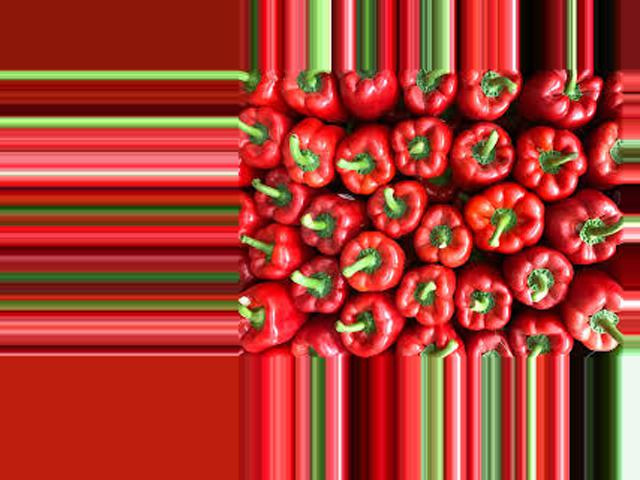bell_pepper: (240, 290, 300, 350)
